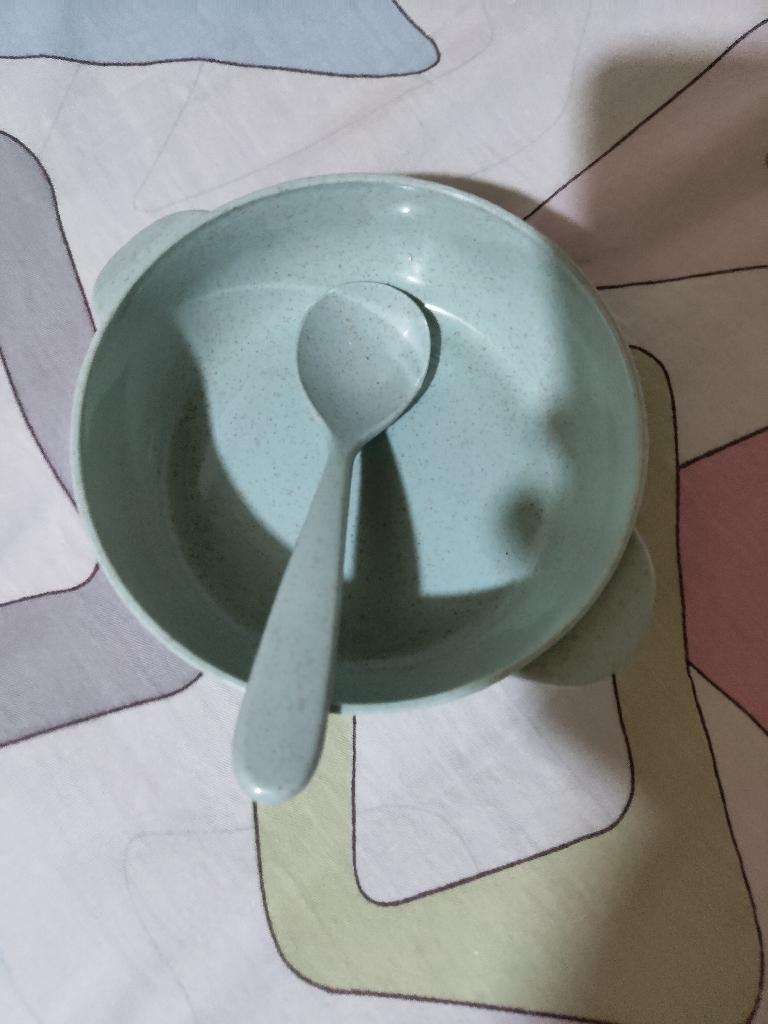塑料厨具: (227, 279, 433, 806)
塑料器皿: (67, 172, 658, 717)
